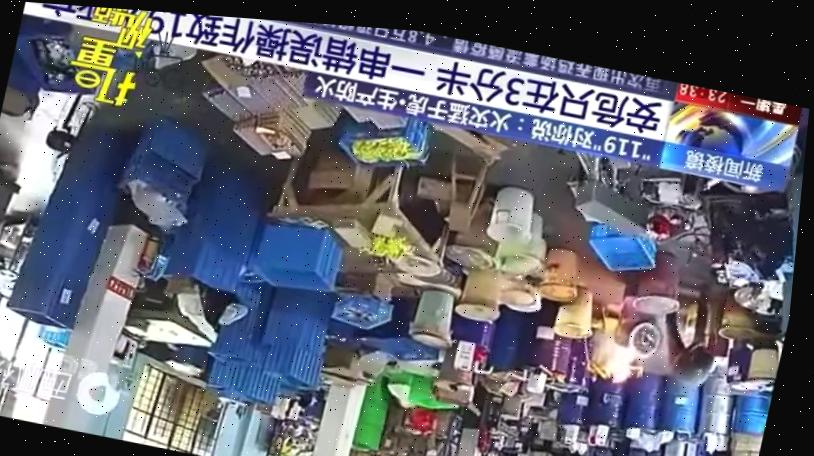fire: (546, 286, 692, 406)
